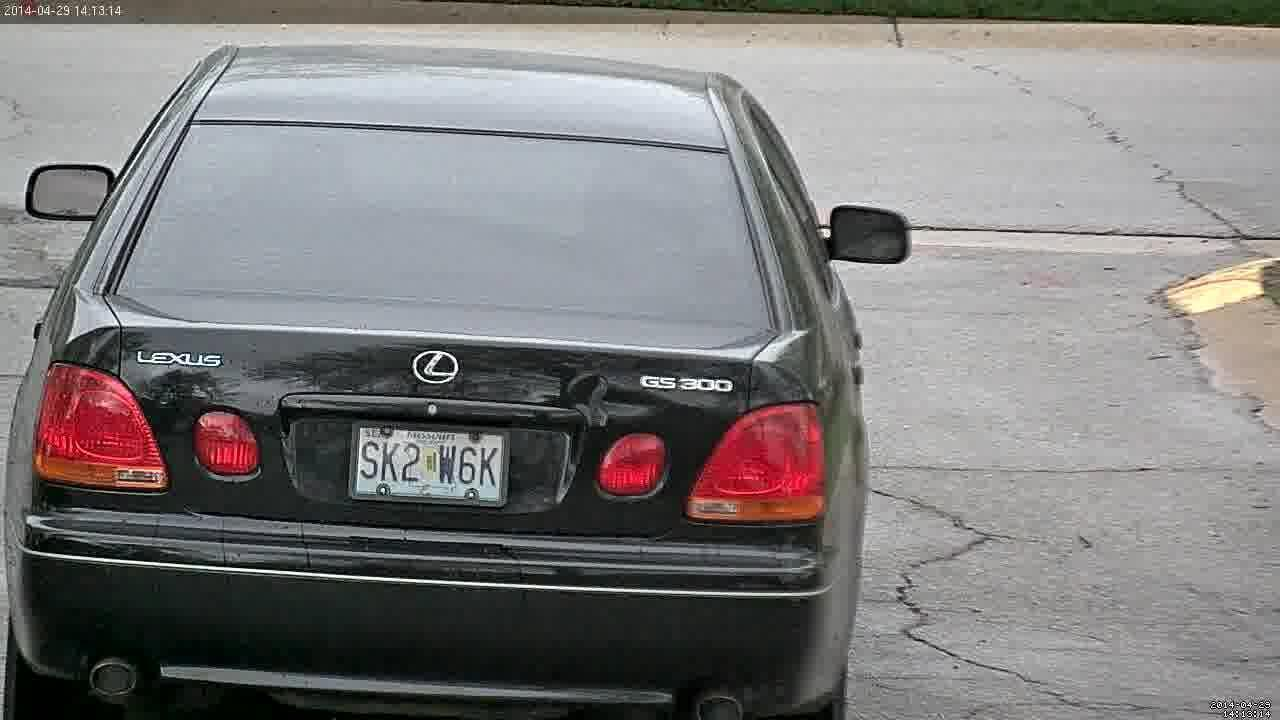placa de veiculo: (320, 400, 548, 533)
